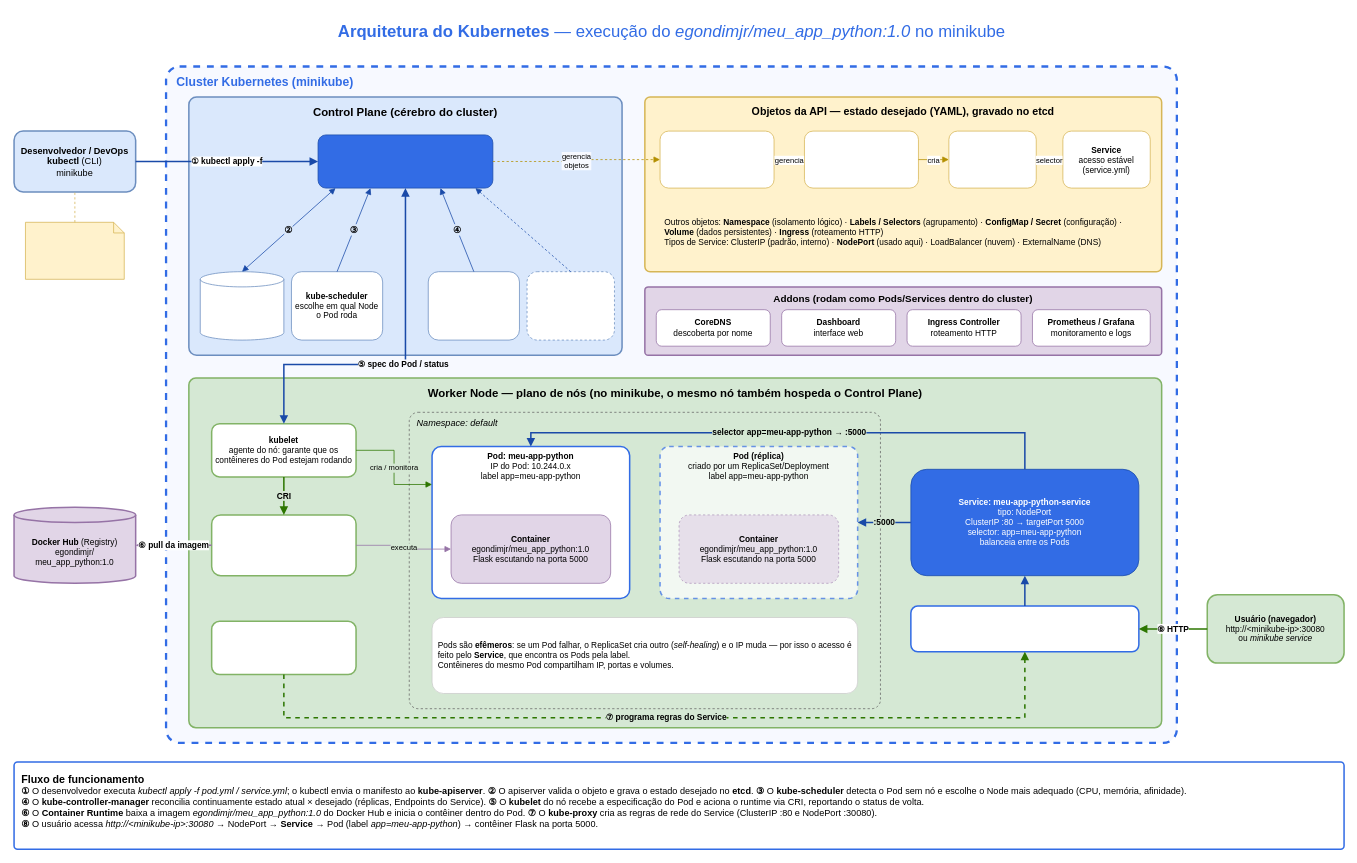
This 1357x863 diagram has some shape labels left out. The shapes that lost their labels are listed below. From the top down, each one's centre as x and y in pixels, then its label:
At point (405, 161): "kube-apiserver porta de entrada da API (valida e configura objetos)".
At point (716, 159): "Deployment atualização declarativa, rollout / rollback".
At point (861, 159): "ReplicaSet mantém N réplicas (escala e autocura)".
At point (992, 159): "Pod menor unidade (pod.yml)".
At point (74, 250): "Manifestos YAML pod.yml service.yml".
At point (242, 305): "etcd banco chave-valor estado do cluster".
At point (473, 305): "kube-controller-manager loops de reconciliação (ReplicaSet, Endpoints...)".
At point (570, 305): "cloud-controller-manager integra com AWS/GCP/Azure (não usado no minikube)".
At point (283, 545): "Container Runtime containerd / Docker / CRI-O inicia e para contêineres".
At point (283, 647): "kube-proxy regras de rede (iptables/IPVS) para os Services".
At point (1024, 628): "NodePort :30080 aberto no IP do nó ( minikube ip )".
